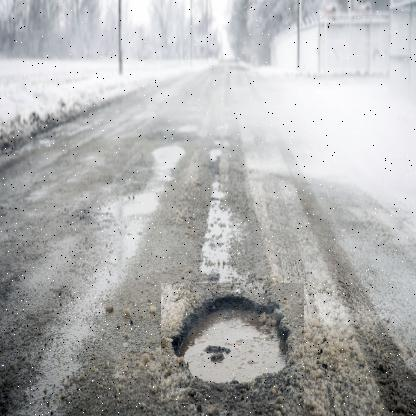pothole_water: (160, 284, 304, 406)
